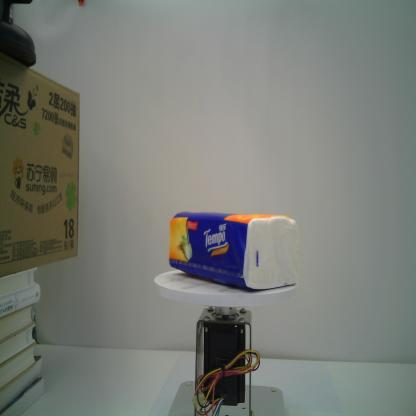Tissue: (167, 209, 301, 292)
